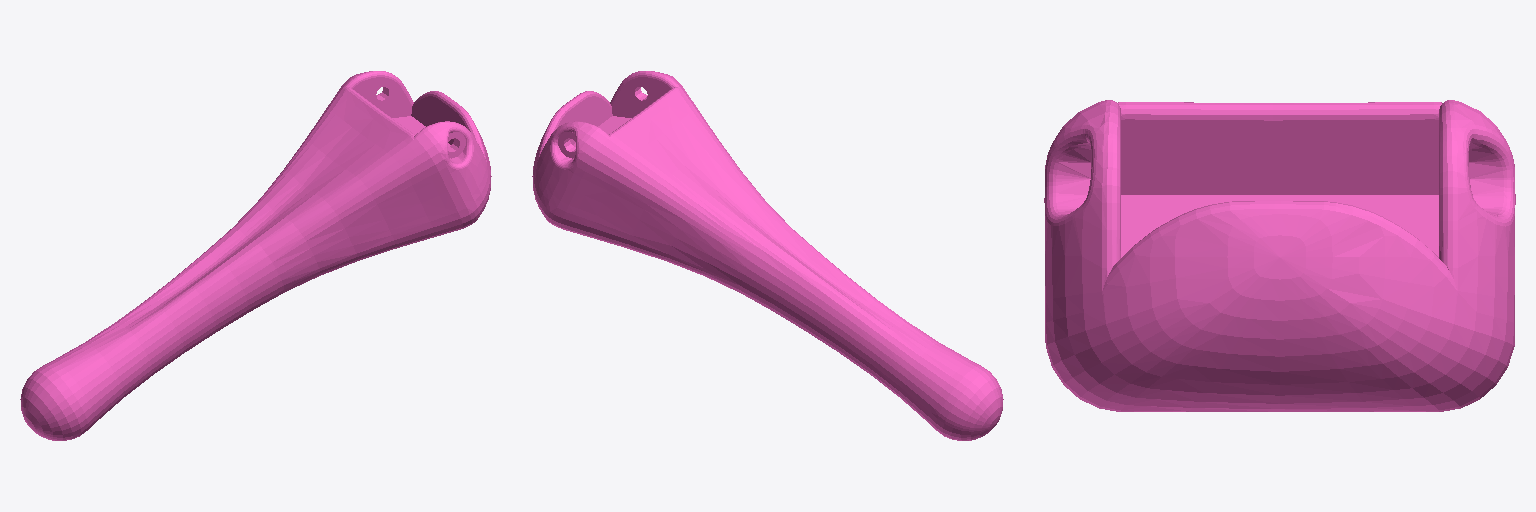
URDF robot description (Leg_Test):
<?xml version="1.0" encoding="utf-8"?>
<!-- This URDF was automatically created by SolidWorks to URDF Exporter! Originally created by [author] ([email redacted]) 
     Commit Version: 1.5.1-0-g916b5db  Build Version: 1.5.7152.31018
     For more information, please see http://wiki.ros.org/sw_urdf_exporter -->
<robot
  name="Leg_Test">
  <link
    name="base_link">
    <inertial>
      <origin
        xyz="0.00067316 0.013433 -0.004129"
        rpy="0 0 0" />
      <mass
        value="0.085101" />
      <inertia
        ixx="1.602E-05"
        ixy="-1.3706E-08"
        ixz="2.3448E-08"
        iyy="2.6033E-05"
        iyz="-1.8252E-06"
        izz="1.9135E-05" />
    </inertial>
    <visual>
      <origin
        xyz="0 0 0"
        rpy="0 0 0" />
      <geometry>
        <mesh
          filename="package://Leg_Test/meshes/base_link.STL" />
      </geometry>
      <material
        name="">
        <color
          rgba="0.75294 0.75294 0.75294 1" />
      </material>
    </visual>
    <collision>
      <origin
        xyz="0 0 0"
        rpy="0 0 0" />
      <geometry>
        <mesh
          filename="package://Leg_Test/meshes/base_link.STL" />
      </geometry>
    </collision>
  </link>
  <link
    name="first_link">
    <inertial>
      <origin
        xyz="0.0077236 0.0065127 0.052325"
        rpy="0 0 0" />
      <mass
        value="0.12074" />
      <inertia
        ixx="3.1368E-05"
        ixy="5.4557E-07"
        ixz="3.2822E-07"
        iyy="2.8486E-05"
        iyz="-8.1503E-07"
        izz="2.5863E-05" />
    </inertial>
    <visual>
      <origin
        xyz="0 0 0"
        rpy="0 0 0" />
      <geometry>
        <mesh
          filename="package://Leg_Test/meshes/first_link.STL" />
      </geometry>
      <material
        name="">
        <color
          rgba="0.75294 0.75294 0.75294 1" />
      </material>
    </visual>
    <collision>
      <origin
        xyz="0 0 0"
        rpy="0 0 0" />
      <geometry>
        <mesh
          filename="package://Leg_Test/meshes/first_link.STL" />
      </geometry>
    </collision>
  </link>
  <joint
    name="armpit"
    type="revolute">
    <origin
      xyz="-0.0059477 0.0027538 0.008673"
      rpy="1.5708 0 0" />
    <parent
      link="base_link" />
    <child
      link="first_link" />
    <axis
      xyz="1 -5.102E-05 0" />
    <limit
      lower="0"
      upper="0"
      effort="0"
      velocity="0" />
  </joint>
  <link
    name="second_link">
    <inertial>
      <origin
        xyz="0.063983 0.054565 0.093129"
        rpy="0 0 0" />
      <mass
        value="0.24824" />
      <inertia
        ixx="6.5305E-05"
        ixy="-6.5296E-06"
        ixz="-6.9826E-08"
        iyy="0.000221"
        iyz="4.6482E-10"
        izz="0.00020519" />
    </inertial>
    <visual>
      <origin
        xyz="0 0 0"
        rpy="0 0 0" />
      <geometry>
        <mesh
          filename="package://Leg_Test/meshes/second_link.STL" />
      </geometry>
      <material
        name="">
        <color
          rgba="0.75294 0.75294 0.75294 1" />
      </material>
    </visual>
    <collision>
      <origin
        xyz="0 0 0"
        rpy="0 0 0" />
      <geometry>
        <mesh
          filename="package://Leg_Test/meshes/second_link.STL" />
      </geometry>
    </collision>
  </link>
  <joint
    name="shoulder"
    type="revolute">
    <origin
      xyz="-0.016735 -0.09862 -0.037281"
      rpy="0 0 -0.37764" />
    <parent
      link="first_link" />
    <child
      link="second_link" />
    <axis
      xyz="0 0 -1" />
    <limit
      lower="0"
      upper="0"
      effort="0"
      velocity="0" />
  </joint>
  <link
    name="third_link">
    <inertial>
      <origin
        xyz="-0.041201 -0.0012569 1.8154E-06"
        rpy="0 0 0" />
      <mass
        value="0.12094" />
      <inertia
        ixx="2.6285E-05"
        ixy="6.7835E-06"
        ixz="-7.2854E-09"
        iyy="0.0002634"
        iyz="3.5228E-09"
        izz="0.00025318" />
    </inertial>
    <visual>
      <origin
        xyz="0 0 0"
        rpy="0 0 0" />
      <geometry>
        <mesh
          filename="package://Leg_Test/meshes/third_link.STL" />
      </geometry>
      <material
        name="">
        <color
          rgba="1 0.47059 0.82353 1" />
      </material>
    </visual>
    <collision>
      <origin
        xyz="0 0 0"
        rpy="0 0 0" />
      <geometry>
        <mesh
          filename="package://Leg_Test/meshes/third_link.STL" />
      </geometry>
    </collision>
  </link>
  <joint
    name="knee"
    type="revolute">
    <origin
      xyz="0.14752 0.02261 0.093051"
      rpy="0 0 0.80006" />
    <parent
      link="second_link" />
    <child
      link="third_link" />
    <axis
      xyz="0 0 1" />
    <limit
      lower="0"
      upper="0"
      effort="0"
      velocity="0" />
  </joint>
</robot>

--- Render facts (derived) ---
The picture shows the robot from 3 angles, left to right: view 1: azimuth 30°, elevation 25°; view 2: azimuth 150°, elevation 25°; view 3: azimuth 270°, elevation 25°; orthographic projection.
Robot: Leg_Test — 4 links, 3 joints (3 revolute); root link base_link; default pose: every joint at zero.
Links seen in each view (by area): view 1: third_link; view 2: third_link; view 3: third_link.
Link boxes in pixels (bbox=[...]): third_link: bbox=[20, 71, 491, 440]; third_link: bbox=[532, 71, 1003, 440]; third_link: bbox=[1044, 100, 1515, 411].
Bounding box of the posed robot: 0.1602 × 0.06 × 0.0886 m (x, y, z).
Meshes: 4 distinct files referenced, 1 mesh visuals loaded (1 binary STL); not drawn: 3 (reference not matched to a file when rendering).